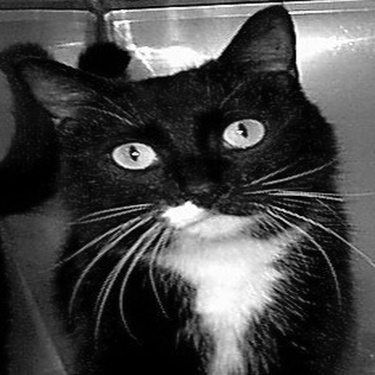cat: (1, 10, 359, 355)
